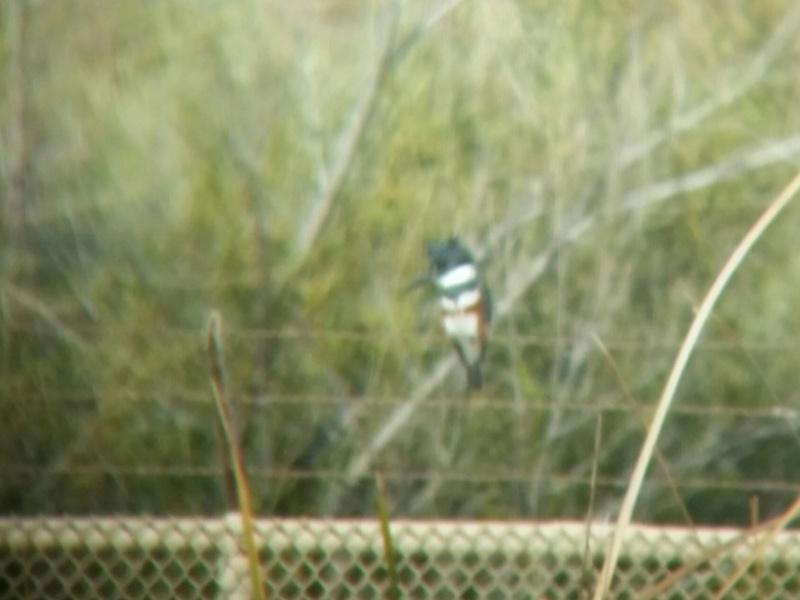kingfisher: (403, 234, 495, 394)
